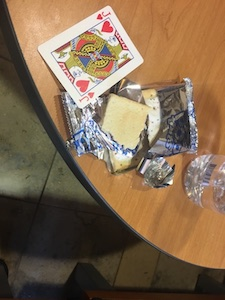JackOfHearts: (38, 3, 145, 110)
